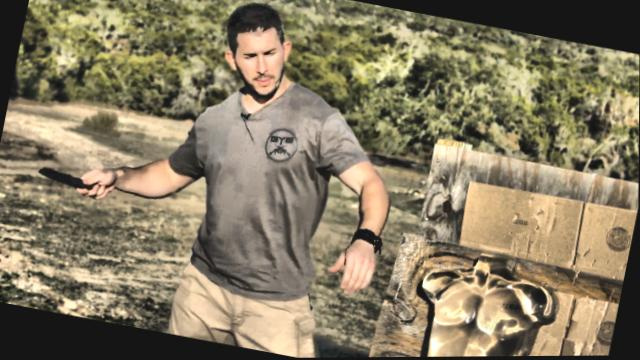knife: (32, 158, 117, 204)
